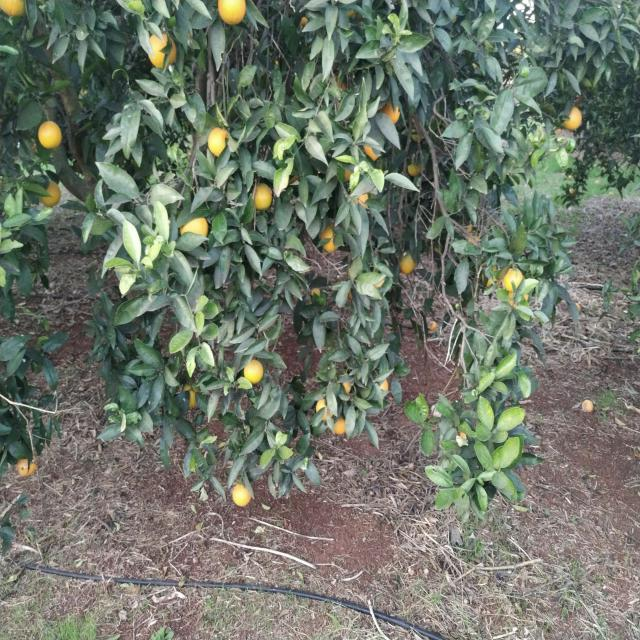Jeruk Belum Matang: (398, 250, 416, 274)
Jeruk Sudah Matang: (148, 31, 178, 70), (38, 119, 63, 151), (218, 0, 245, 26), (179, 217, 209, 240), (252, 182, 272, 212), (208, 128, 229, 156), (42, 180, 62, 208), (380, 99, 400, 126), (321, 226, 339, 254), (504, 268, 524, 293), (563, 106, 582, 131), (244, 361, 264, 384), (232, 484, 252, 507), (0, 0, 26, 17), (316, 398, 334, 422), (17, 456, 36, 476), (332, 416, 347, 436), (363, 144, 379, 162), (408, 160, 421, 178), (342, 374, 352, 393), (382, 380, 389, 392)
